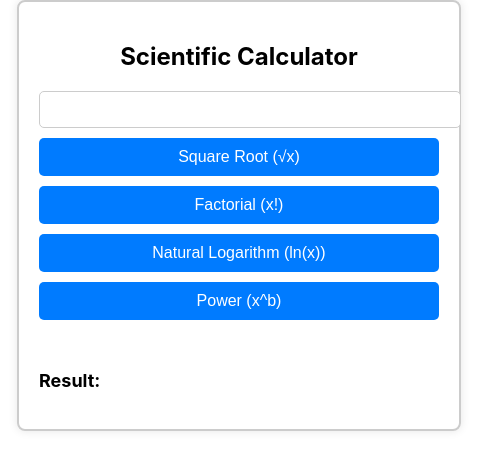
it: calculates factorial correctly
Type "5" into the number field.
click(250, 109); type("5")  # box [39,91,461,128]
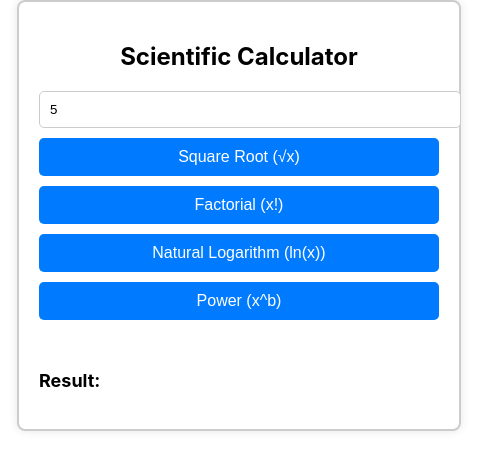
Click the button "Factorial (x!)".
click(239, 205)  # box [39,186,439,224]
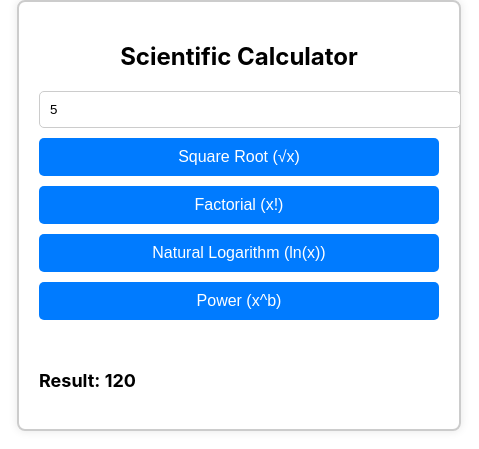
Expected: the heading "Result: 120" is shown, [39,370,136,391]
